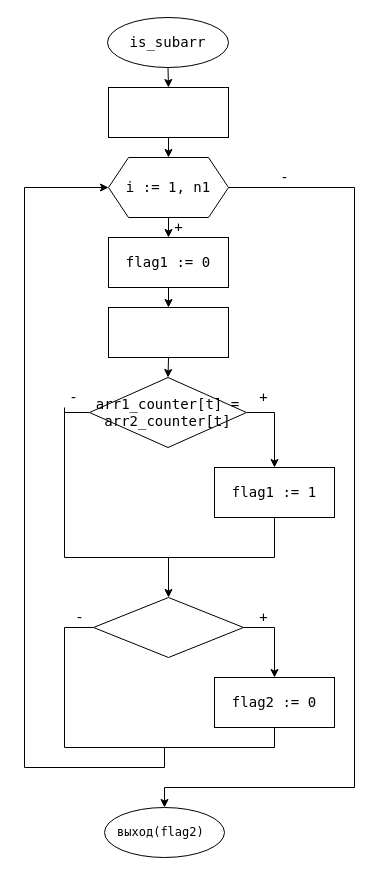
The diagram is 373 pixels wide and 875 high, and some of its shapes have lost their labels. The shapes that lost their labels are listed below. From the top down, each one's box as (x1, y1, x2, y2) in pixels, then its label:
(108, 86, 228, 138): flag2 := 1
(108, 306, 228, 358): t := arr1[i]
(92, 596, 244, 658): flag1 = 0
